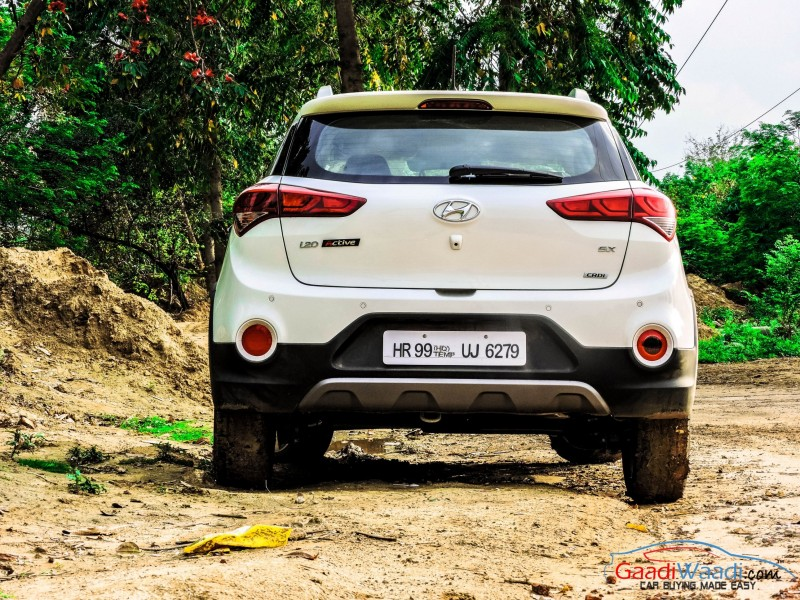car: (195, 77, 704, 513)
